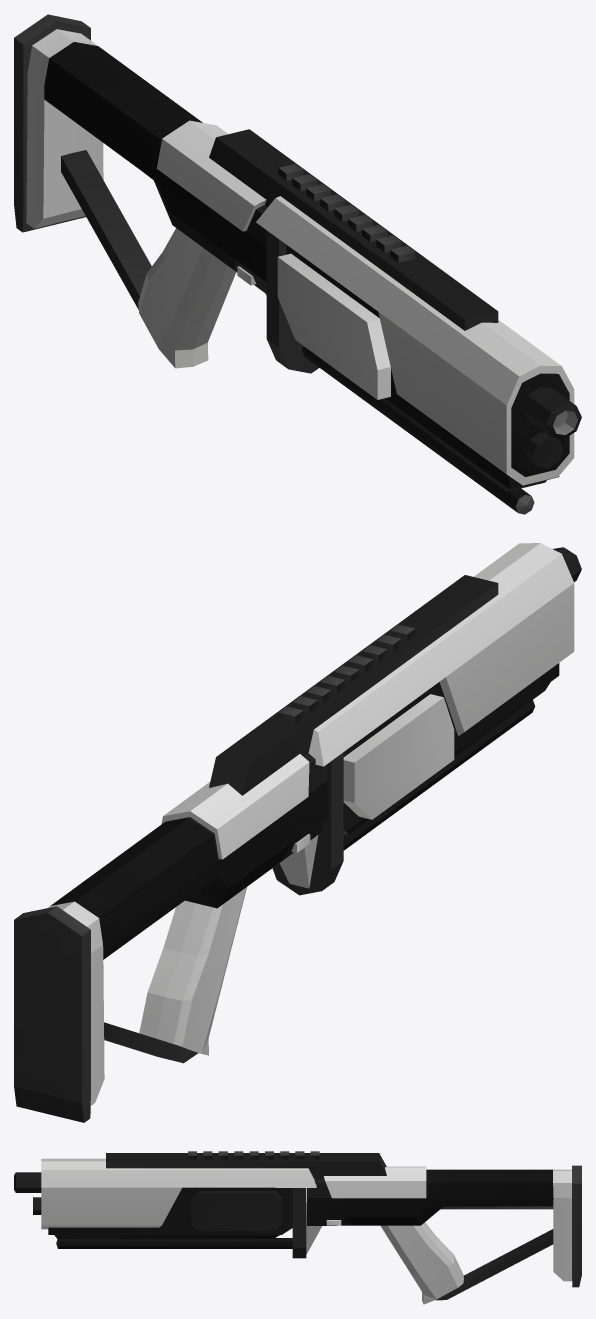
The model's file is ShotgunBody_mesh.fbx.
The picture shows the model from 3 angles, top to bottom: view 1: azimuth 30°, elevation 25°; view 2: azimuth 150°, elevation 25°; view 3: azimuth 270°, elevation 25°; orthographic projection. The views are drawn at different scales.
Visible parts, largest first — view 1: ShotgunBody_mesh; view 2: ShotgunBody_mesh; view 3: ShotgunBody_mesh.
Boxes of the visible parts, box(x1,y1,x2,y2) form: ShotgunBody_mesh: box(14, 14, 581, 514); ShotgunBody_mesh: box(14, 543, 581, 1122); ShotgunBody_mesh: box(14, 1151, 581, 1304).
Size of the model in its own units: 5.98 by 21.25 by 74.04.
